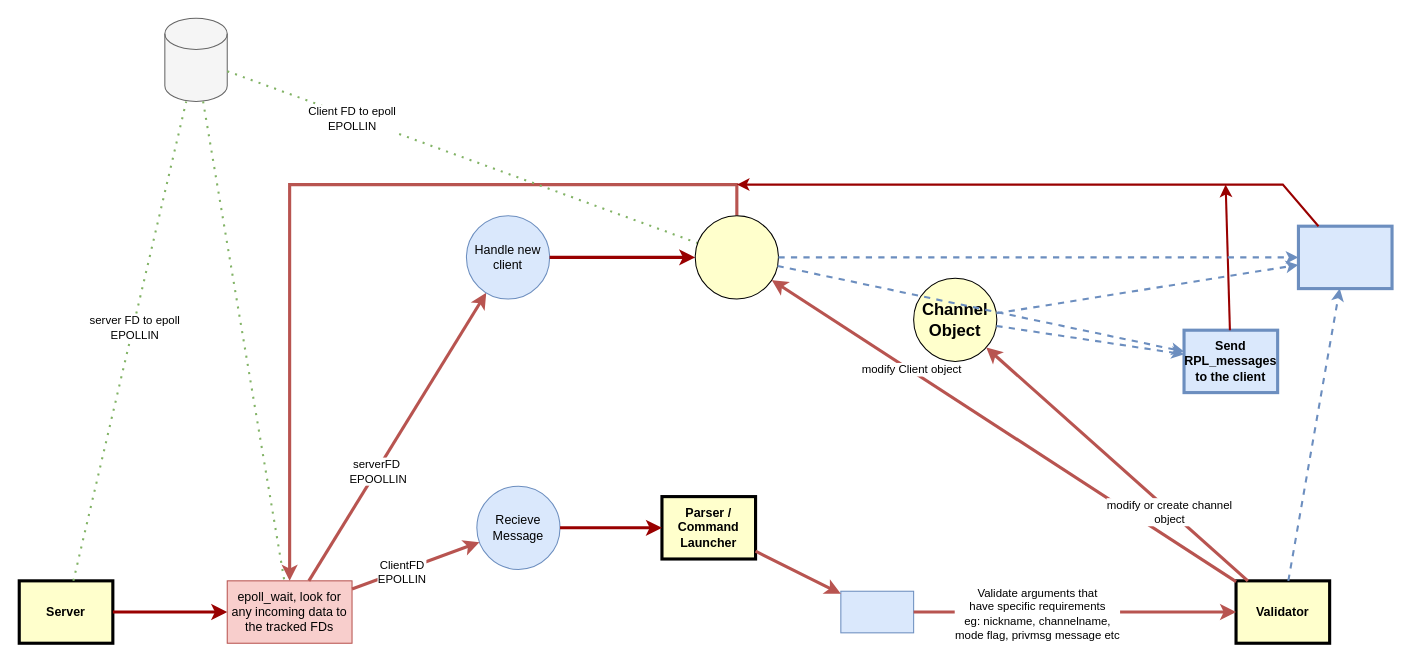
Image size: 1411x662. Some labels were removed from this diagram. The shapes that lost their labels are listed below. From the top down, each one's box as (x1, y1, x2, y2) in pixels, then its label:
(164, 17, 227, 101): epoll
(694, 215, 778, 299): Client Object
(1296, 224, 1393, 290): Send ERR_ messages to the Client
(840, 590, 914, 633): COMMAND thats parsed
